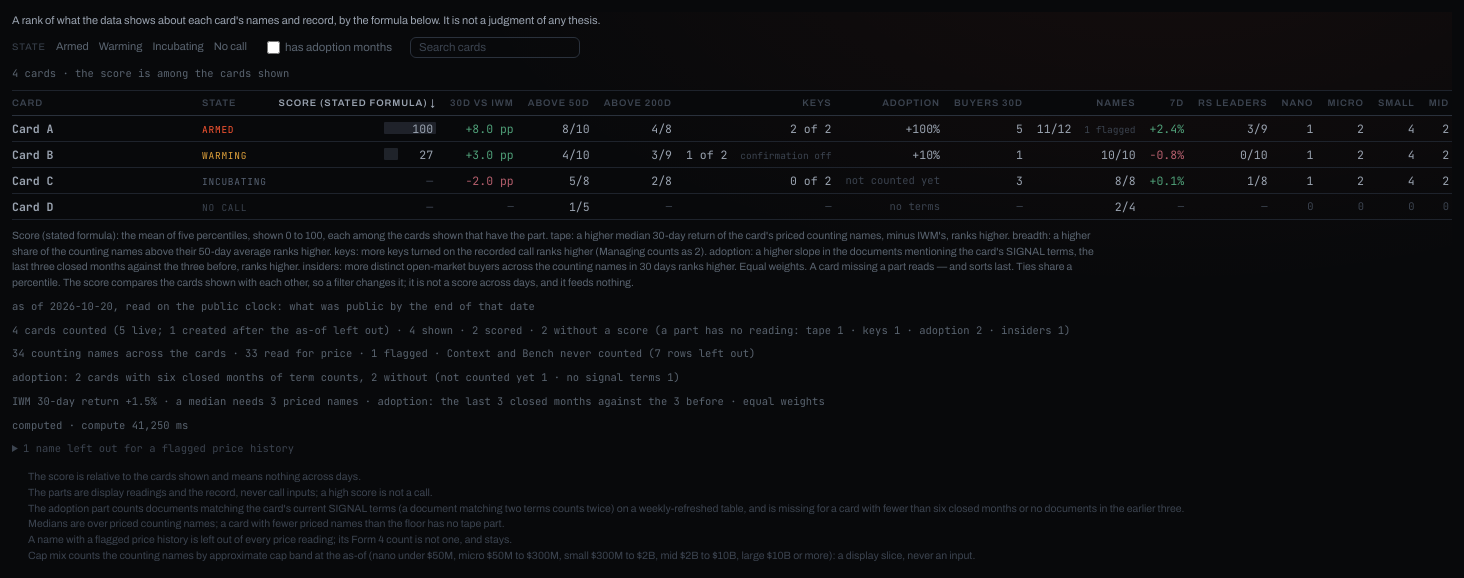
ThemeLeaderboard — the quiet lines › recounts the work lines for the cards shown
Click the button "Armed" at (72, 47), box [54,38,91,56]
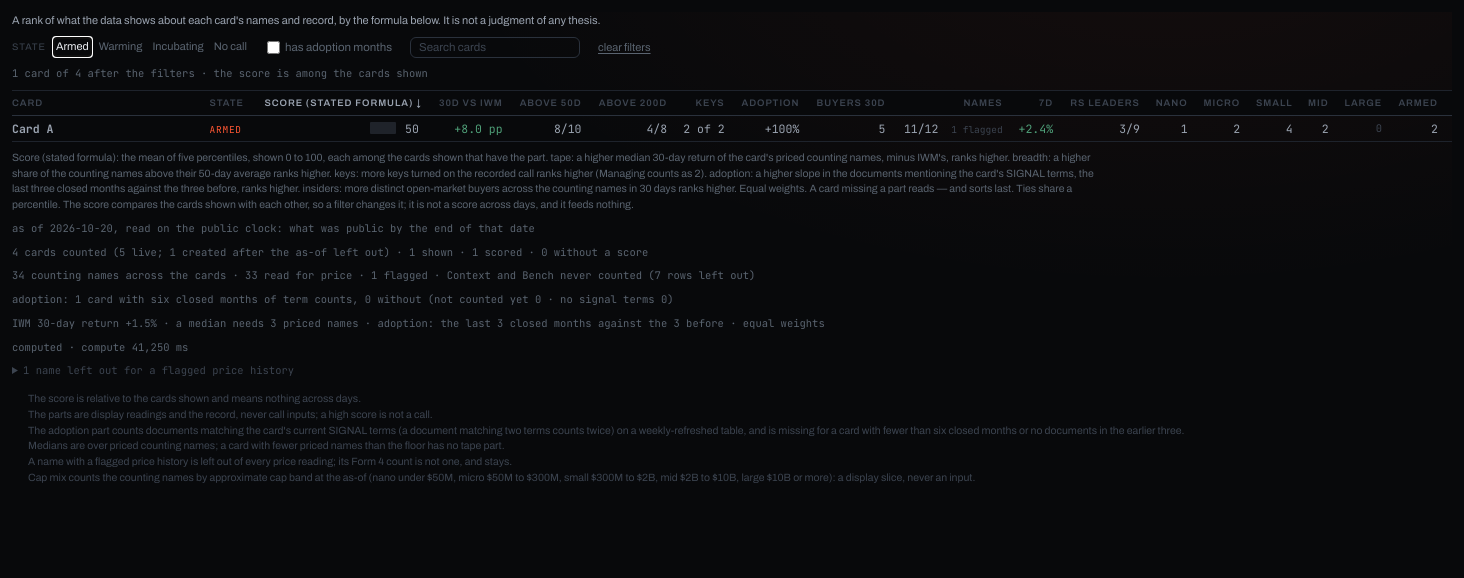
Now the text "4 cards counted (5 live; 1 created after the as-of left out) · 1 shown · 1 scored · 0 without a score" is shown, box [12,244,648,258]
